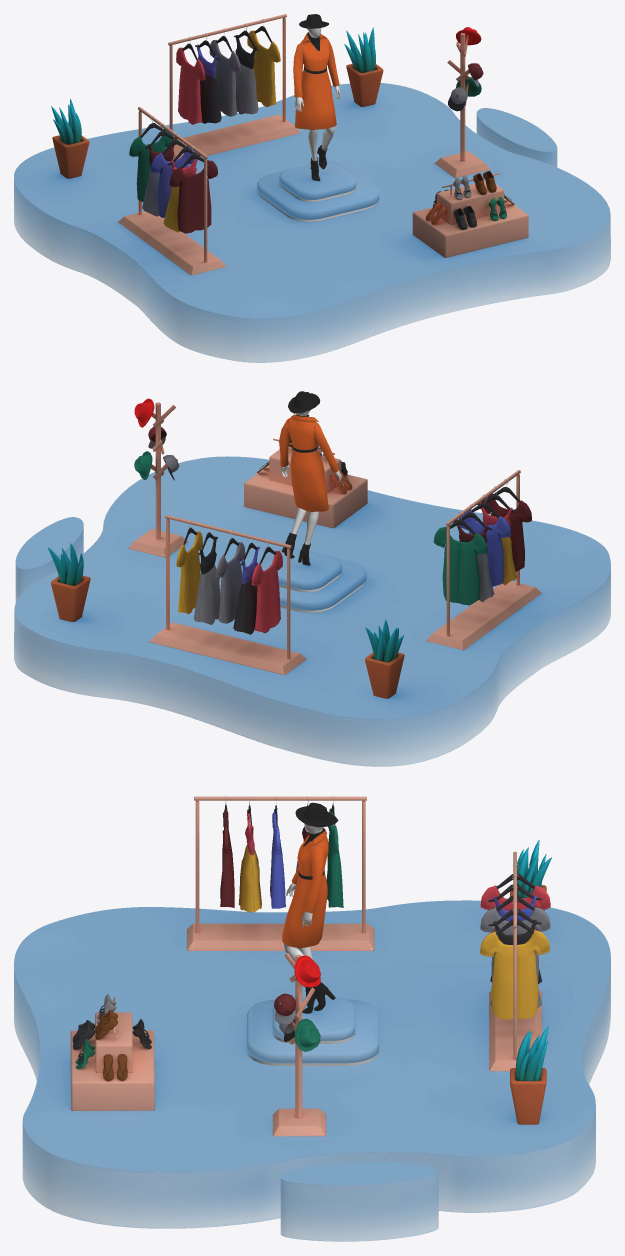
File: LeviCam8.glb
3 renders of one model, top to bottom at view 1: azimuth 30°, elevation 25°; view 2: azimuth 150°, elevation 25°; view 3: azimuth 270°, elevation 25°, orthographic. The views are drawn at different scales.
Visible parts, largest first — view 1: LeviCamBase, LeviCamSet, LeviCamManneDrs, LeviCamManneBdy, LeviCamBsGlw; view 2: LeviCamBase, LeviCamSet, LeviCamManneDrs, LeviCamManneBdy; view 3: LeviCamBase, LeviCamSet, LeviCamManneDrs, LeviCamManneBdy.
Part boxes in pixels (x1,y1,x2,y2): LeviCamBase: [14, 83, 610, 362]; LeviCamSet: [51, 14, 528, 275]; LeviCamManneDrs: [293, 14, 339, 181]; LeviCamManneBdy: [295, 28, 340, 161]; LeviCamBsGlw: [258, 184, 378, 221]; LeviCamBase: [14, 456, 610, 766]; LeviCamSet: [47, 398, 541, 698]; LeviCamManneDrs: [279, 391, 338, 565]; LeviCamManneBdy: [280, 410, 341, 544]; LeviCamBase: [14, 900, 610, 1241]; LeviCamSet: [70, 795, 551, 1136]; LeviCamManneDrs: [282, 802, 338, 1013]; LeviCamManneBdy: [284, 823, 323, 962].
Bounding box in the file's own units: 7.58 × 3.58 × 6.72.
7 materials, 4 textured.
